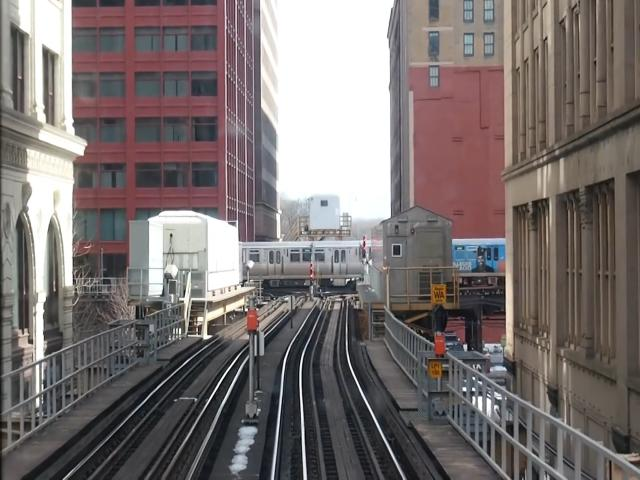signal light: (311, 263, 315, 287), (364, 236, 367, 259)
